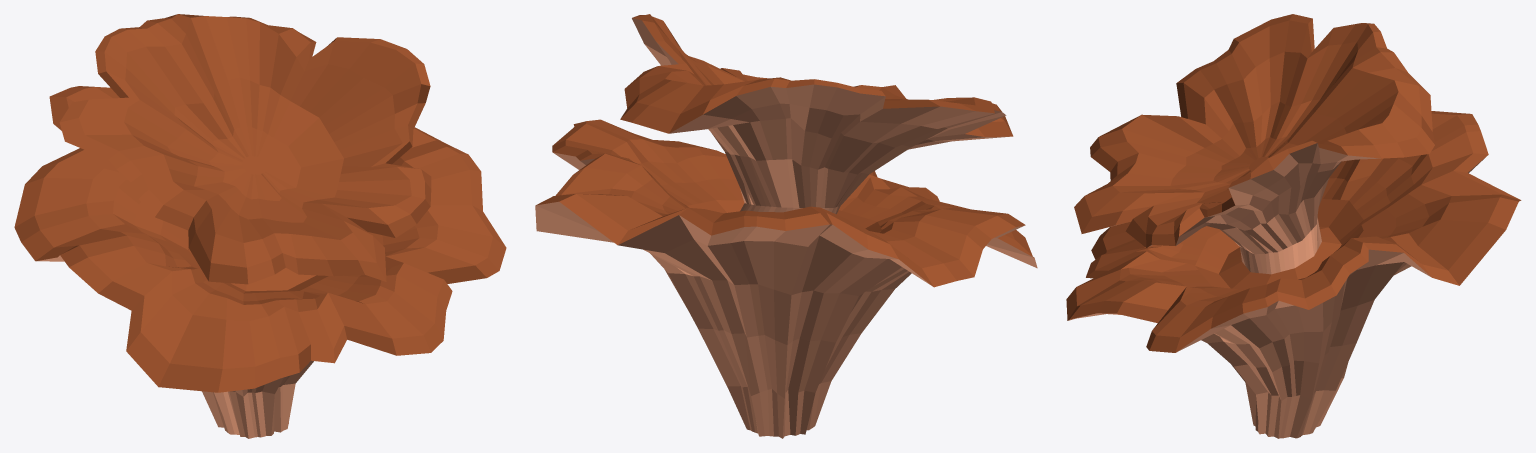
File: DoubleReef_01.fbx
The picture shows the model from 3 angles, left to right: view 1: azimuth 30°, elevation 25°; view 2: azimuth 150°, elevation 25°; view 3: azimuth 270°, elevation 25°; orthographic projection. The views are drawn at different scales.
Parts seen in each view (by area): view 1: Double Chanderelle; view 2: Double Chanderelle; view 3: Double Chanderelle.
Boxes of the visible parts, <box> form: Double Chanderelle: <box>14,14,506,438</box>; Double Chanderelle: <box>535,14,1037,438</box>; Double Chanderelle: <box>1066,14,1521,438</box>.
Size of the model in its own units: 1032 by 914 by 1056.
